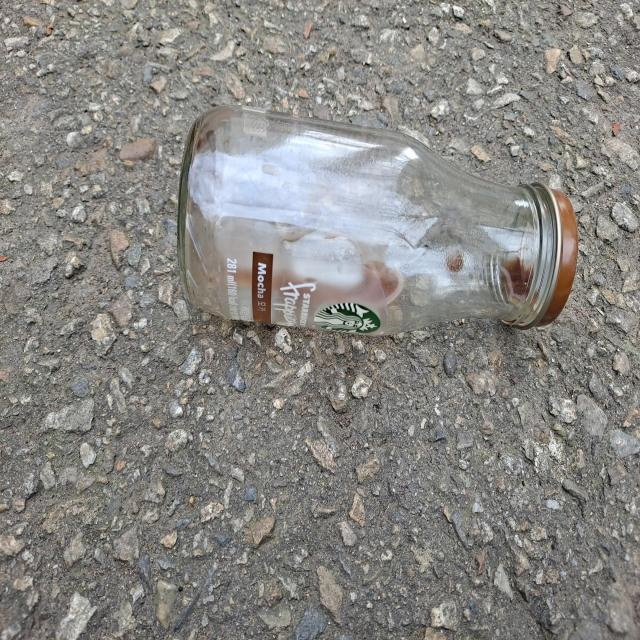glass: (178, 106, 579, 335)
